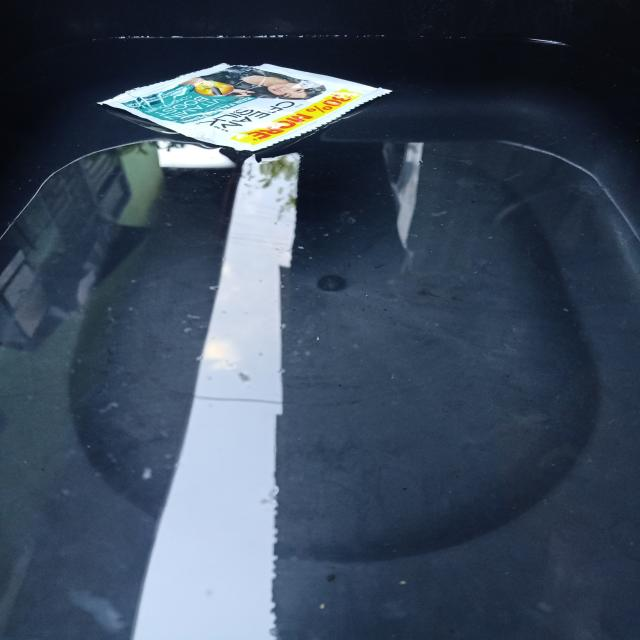Plastic Wrapper: (55, 42, 422, 171)
